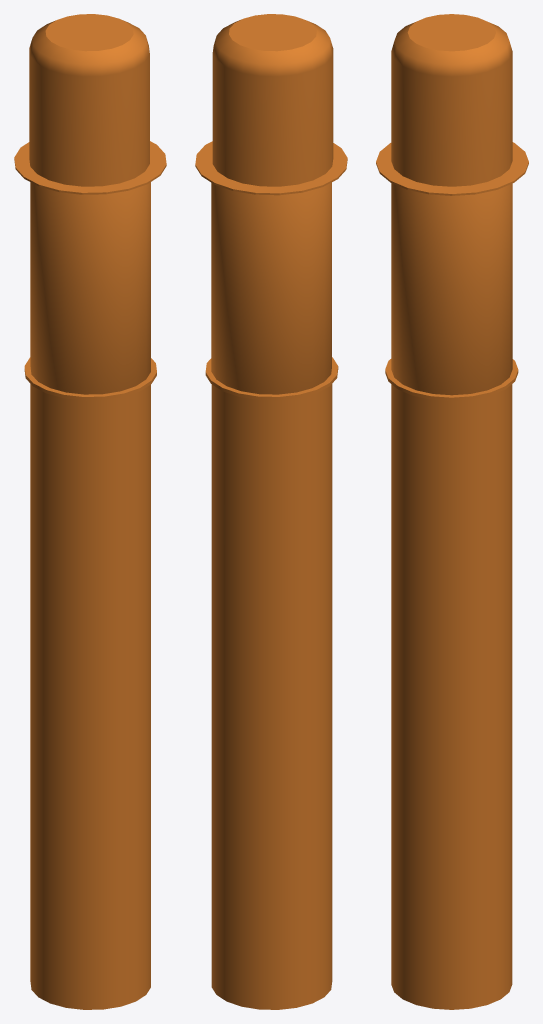
File: Tank_02.fbx
3 views of the same model, side by side, from view 1: azimuth 30°, elevation 25°; view 2: azimuth 150°, elevation 25°; view 3: azimuth 270°, elevation 25° (orthographic).
Parts seen in each view (by area): view 1: Tank_02; view 2: Tank_02; view 3: Tank_02.
Boxes of the visible parts, <box> form: Tank_02: <box>14,14,166,1009</box>; Tank_02: <box>195,14,347,1009</box>; Tank_02: <box>376,14,528,1009</box>.
Size of the model in its own units: 2072 by 14214 by 2072.
